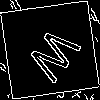W: (25, 25, 90, 91)
